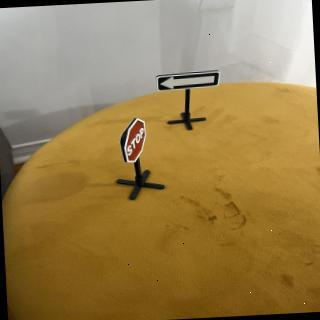sign_oneway_left: (157, 70, 224, 94)
sign_stop: (123, 117, 151, 166)
